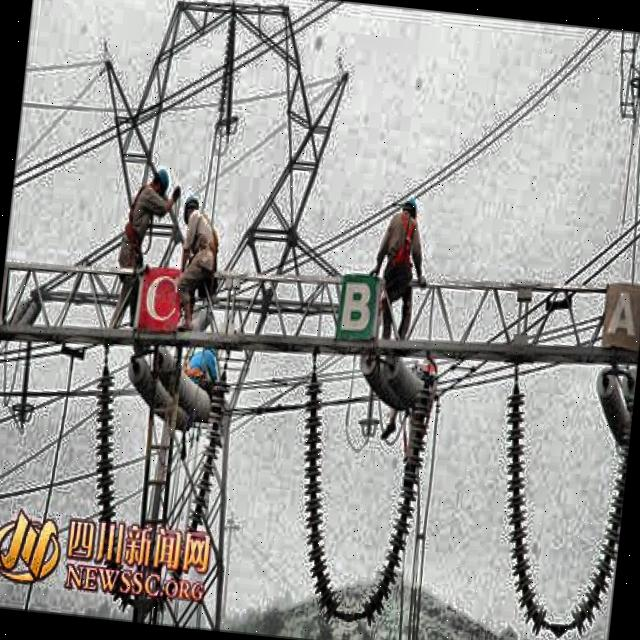helmet: (179, 187, 205, 230), (398, 192, 423, 228), (148, 165, 172, 202)
